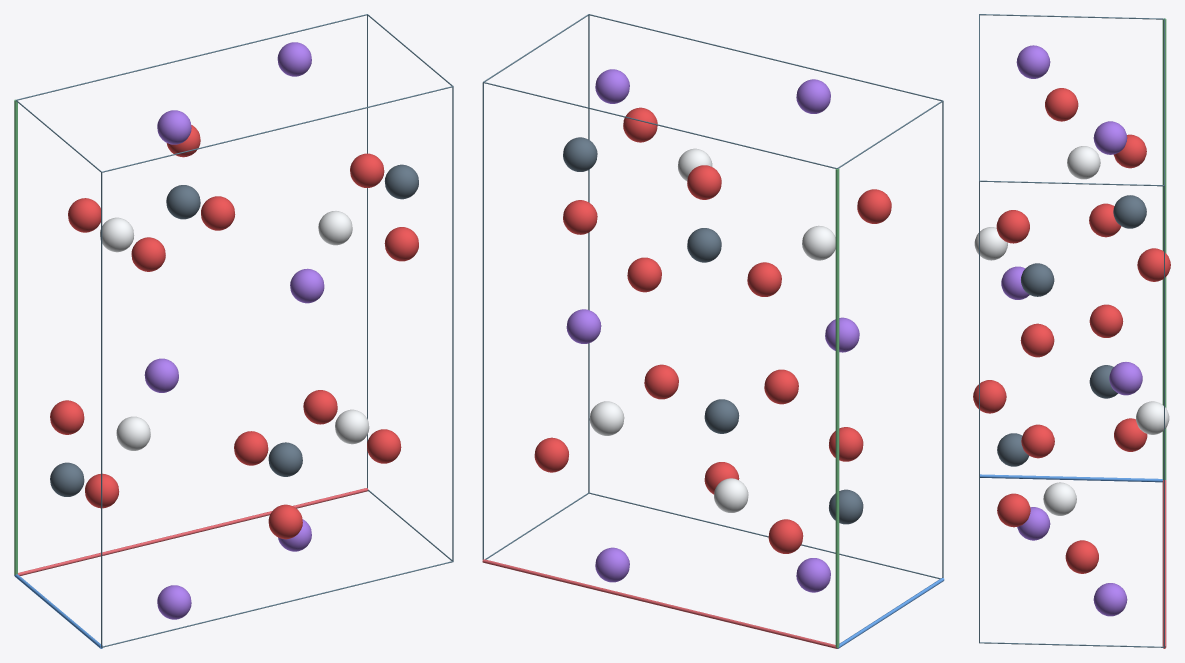
File: chat-nahcolite.glb
3 views of the same model, side by side, from view 1: azimuth 30°, elevation 25°; view 2: azimuth 150°, elevation 25°; view 3: azimuth 270°, elevation 25° (orthographic). The views are drawn at different scales.
Parts seen in each view (by area): view 1: Ô mạng và các trục a, b, c, Na1 · Na · 1 (×5), C1 · C · 1 (×4), H1 · H · 1 (×4), O3 · O · 1 (×4), O2 · O · 1 (×4), O1 · O · 1 (×3); view 2: Ô mạng và các trục a, b, c, Na1 · Na · 1 (×6), O3 · O · 1 (×4), O2 · O · 1 (×4), C1 · C · 1 (×4), H1 · H · 1 (×4), O1 · O · 1 (×4); view 3: Ô mạng và các trục a, b, c, Na1 · Na · 1 (×6), O3 · O · 1 (×4), H1 · H · 1 (×4), O1 · O · 1 (×4), O2 · O · 1 (×4), C1 · C · 1 (×4).
Part boxes in pixels (left/top/right/bottom): Ô mạng và các trục a, b, c: left=14, top=14, right=453, bottom=648; Na1 · Na · 1 (×5): left=144, top=42, right=324, bottom=619; C1 · C · 1 (×4): left=50, top=164, right=418, bottom=496; H1 · H · 1 (×4): left=100, top=211, right=369, bottom=450; O3 · O · 1 (×4): left=68, top=196, right=401, bottom=465; O2 · O · 1 (×4): left=85, top=153, right=384, bottom=508; O1 · O · 1 (×3): left=50, top=227, right=418, bottom=539; Ô mạng và các trục a, b, c: left=482, top=14, right=944, bottom=648; Na1 · Na · 1 (×6): left=566, top=69, right=859, bottom=592; O3 · O · 1 (×4): left=534, top=189, right=891, bottom=472; O2 · O · 1 (×4): left=623, top=107, right=803, bottom=553; C1 · C · 1 (×4): left=563, top=137, right=863, bottom=524; H1 · H · 1 (×4): left=589, top=148, right=835, bottom=512; O1 · O · 1 (×4): left=563, top=165, right=863, bottom=494; Ô mạng và các trục a, b, c: left=979, top=14, right=1166, bottom=648; Na1 · Na · 1 (×6): left=1001, top=45, right=1142, bottom=616; O3 · O · 1 (×4): left=973, top=88, right=1170, bottom=573; H1 · H · 1 (×4): left=974, top=146, right=1169, bottom=515; O1 · O · 1 (×4): left=997, top=134, right=1146, bottom=527; O2 · O · 1 (×4): left=996, top=203, right=1147, bottom=458; C1 · C · 1 (×4): left=997, top=195, right=1146, bottom=466.
Size of the model in its own units: 7.76 by 10.34 by 3.77.
